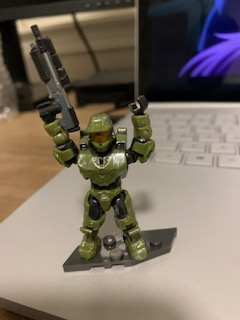chief: (35, 95, 157, 263)
rifle: (28, 24, 82, 138)
spartan: (33, 93, 155, 261)
up: (36, 98, 157, 189)
